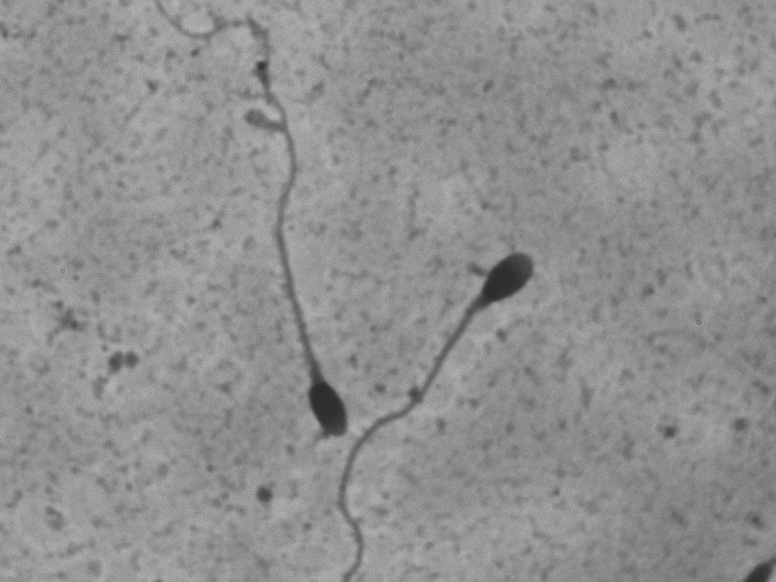Normal: (151, 3, 355, 453), (323, 232, 542, 578)
